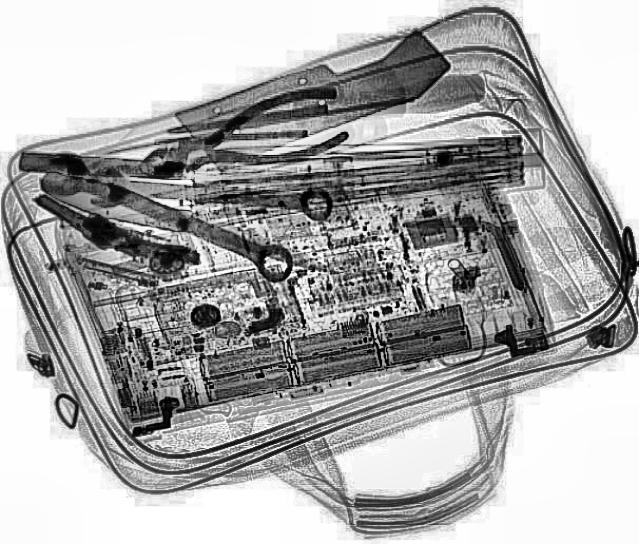Knife: (33, 165, 288, 267), (19, 149, 355, 181)
Pliers: (127, 79, 359, 197)
Wrench: (31, 146, 306, 290), (39, 153, 338, 223)
